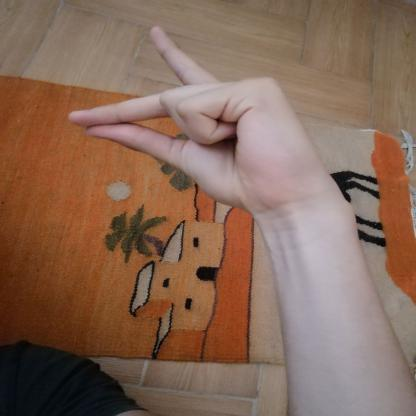TAA: (53, 16, 338, 217)
